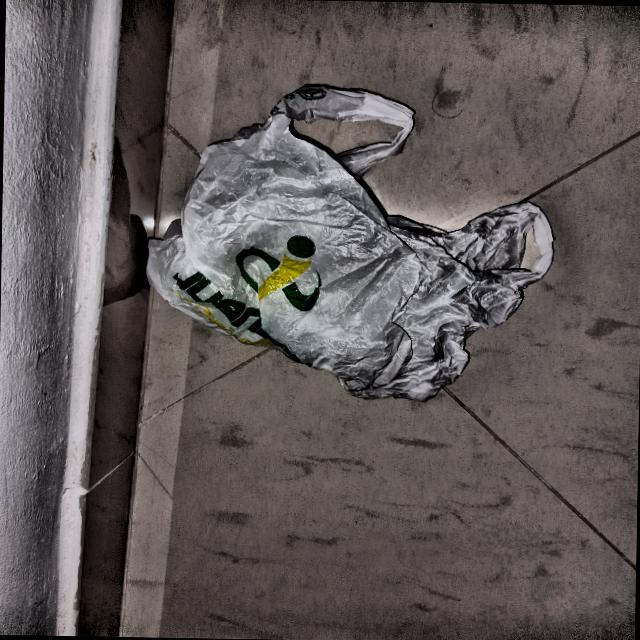plastic bag: (154, 85, 555, 398)
